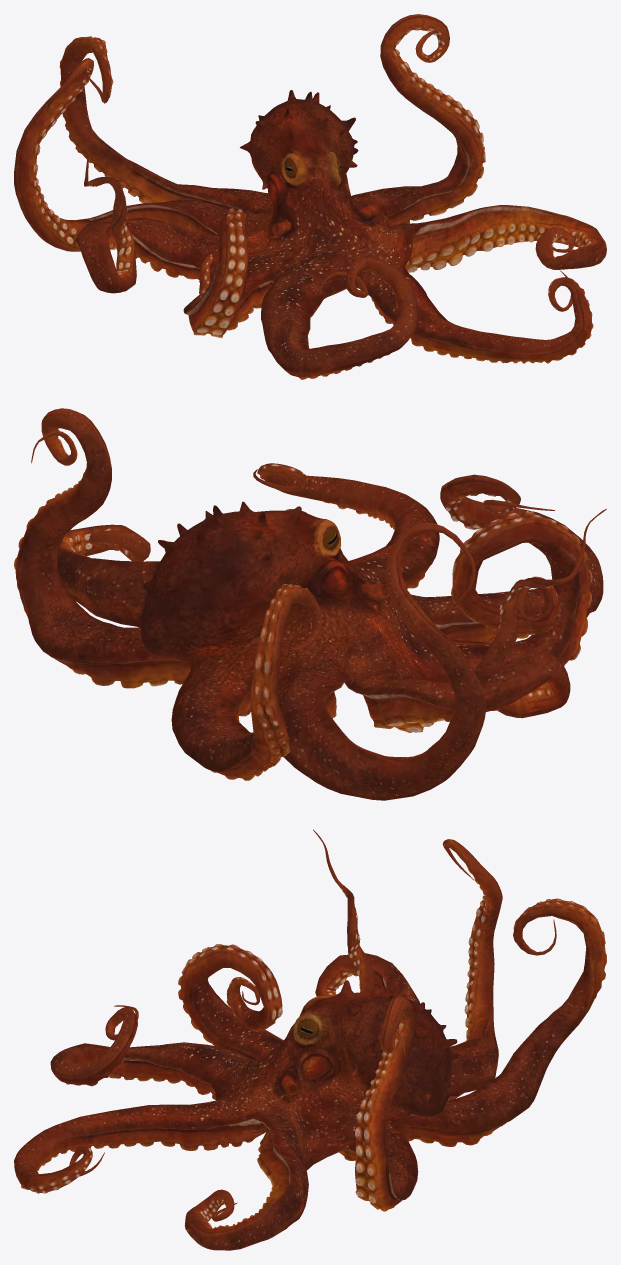
The model's file is octopus.glb.
3 renders of one model, top to bottom at view 1: azimuth 30°, elevation 25°; view 2: azimuth 150°, elevation 25°; view 3: azimuth 270°, elevation 25°, orthographic. The views are drawn at different scales.
Visible parts, largest first — view 1: octopus.1; view 2: octopus.1; view 3: octopus.1.
Boxes of the visible parts, box(x1,y1,x2,y2) form: octopus.1: box(14, 14, 606, 379); octopus.1: box(14, 408, 606, 800); octopus.1: box(14, 829, 606, 1250).
Bounding box in the file's own units: 0.0778 × 0.0334 × 0.0828.
1 material, 1 textured.
